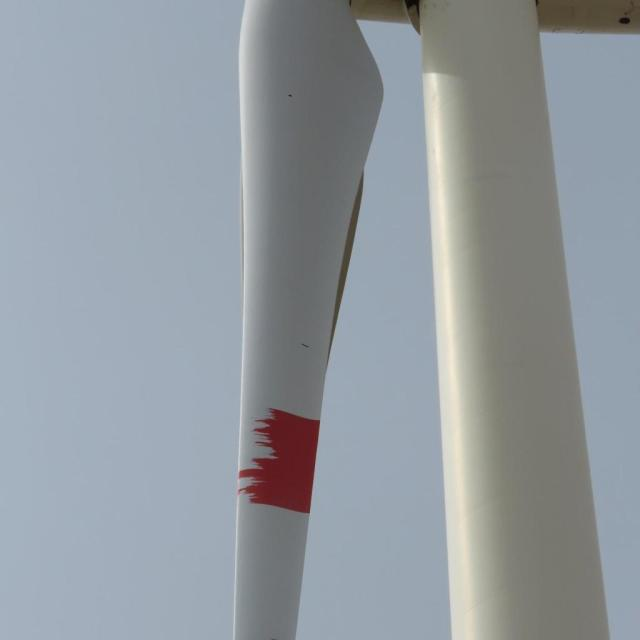surface_peeling: (241, 403, 327, 516)
